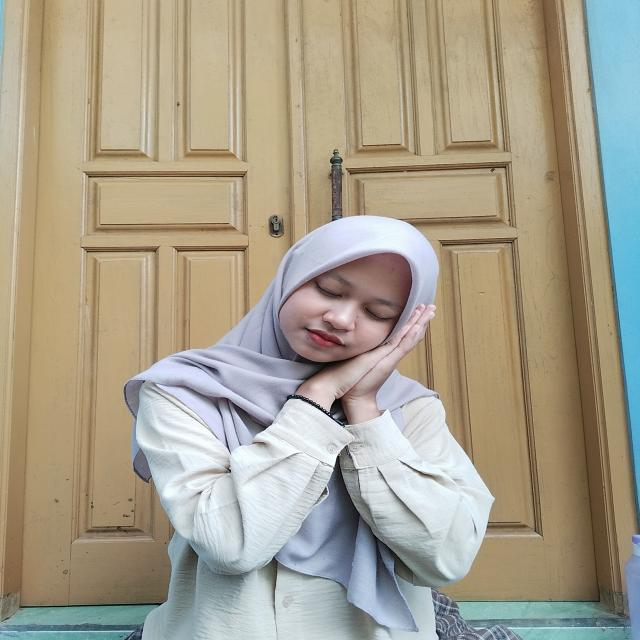tidur: (253, 298, 450, 450)
